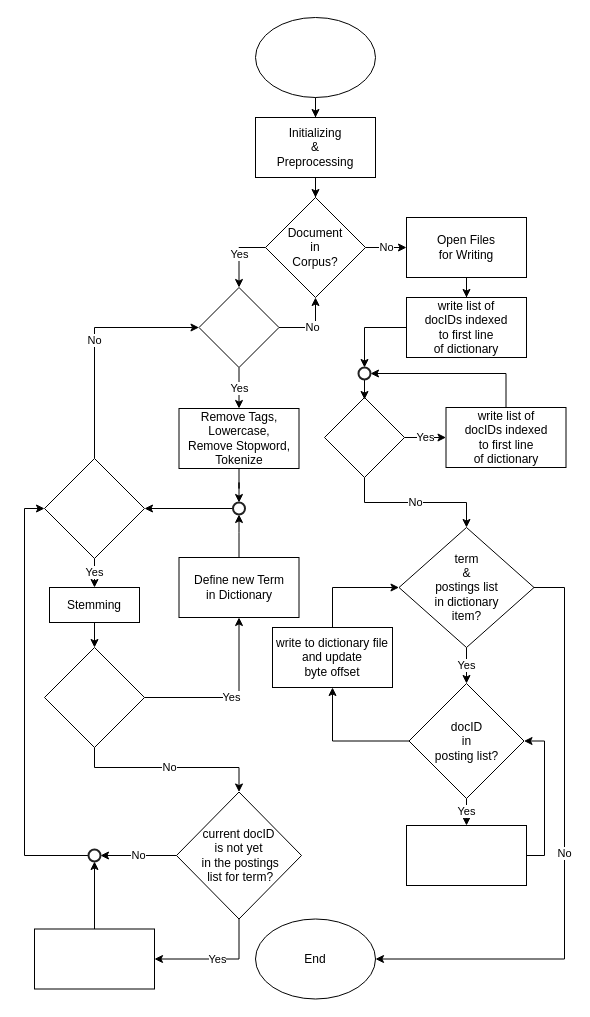
The diagram is 590 pixels wide and 1017 high, and some of its shapes have lost their labels. The shapes that lost their labels are listed below. From the top down, each one's centre as x and y in pixels, then its label:
At point (315, 57): "Start".
At point (238, 327): "Valid?".
At point (364, 437): "in Range?".
At point (94, 508): "Term in Document?".
At point (94, 697): "Term not in Dictionary?".
At point (466, 855): "write each posting into postings file".
At point (94, 958): "Add to Posting List For Term".
